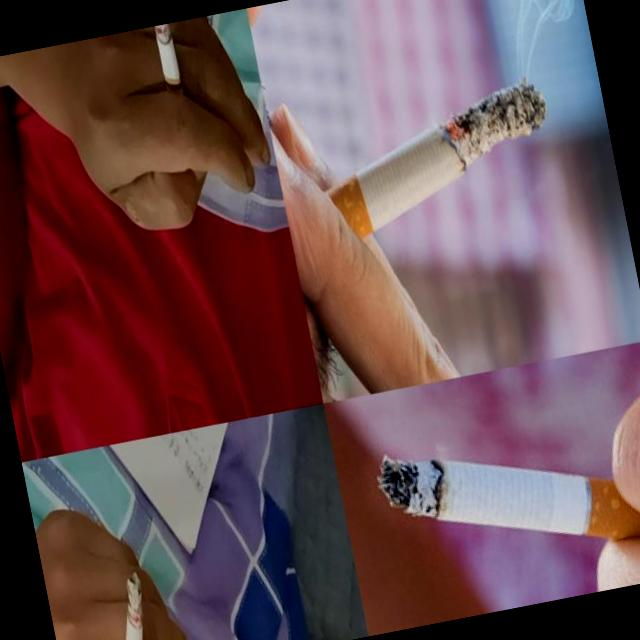cigarette: (315, 69, 572, 248), (371, 408, 627, 580), (153, 22, 192, 130), (106, 570, 160, 640)
